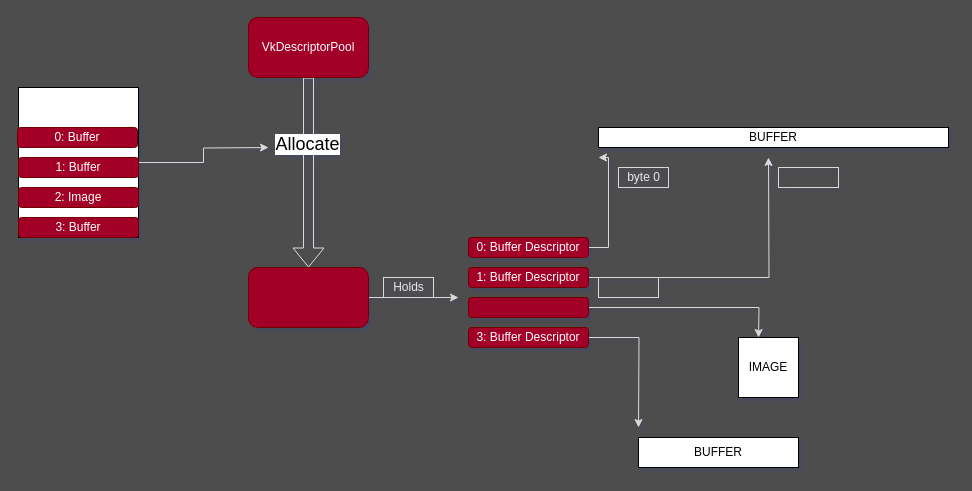
Some shapes in this 972 by 491 pixel diagram are drawn without their labels. Each missing label, with the box of its shape:
2: Image Descriptor: (468, 296, 588, 318)
Byte 500: (778, 166, 838, 188)
Pointers: (598, 276, 658, 298)
VkDescriptorSet: (248, 266, 368, 328)
VkDescriptorSet Layout: (18, 86, 138, 238)
